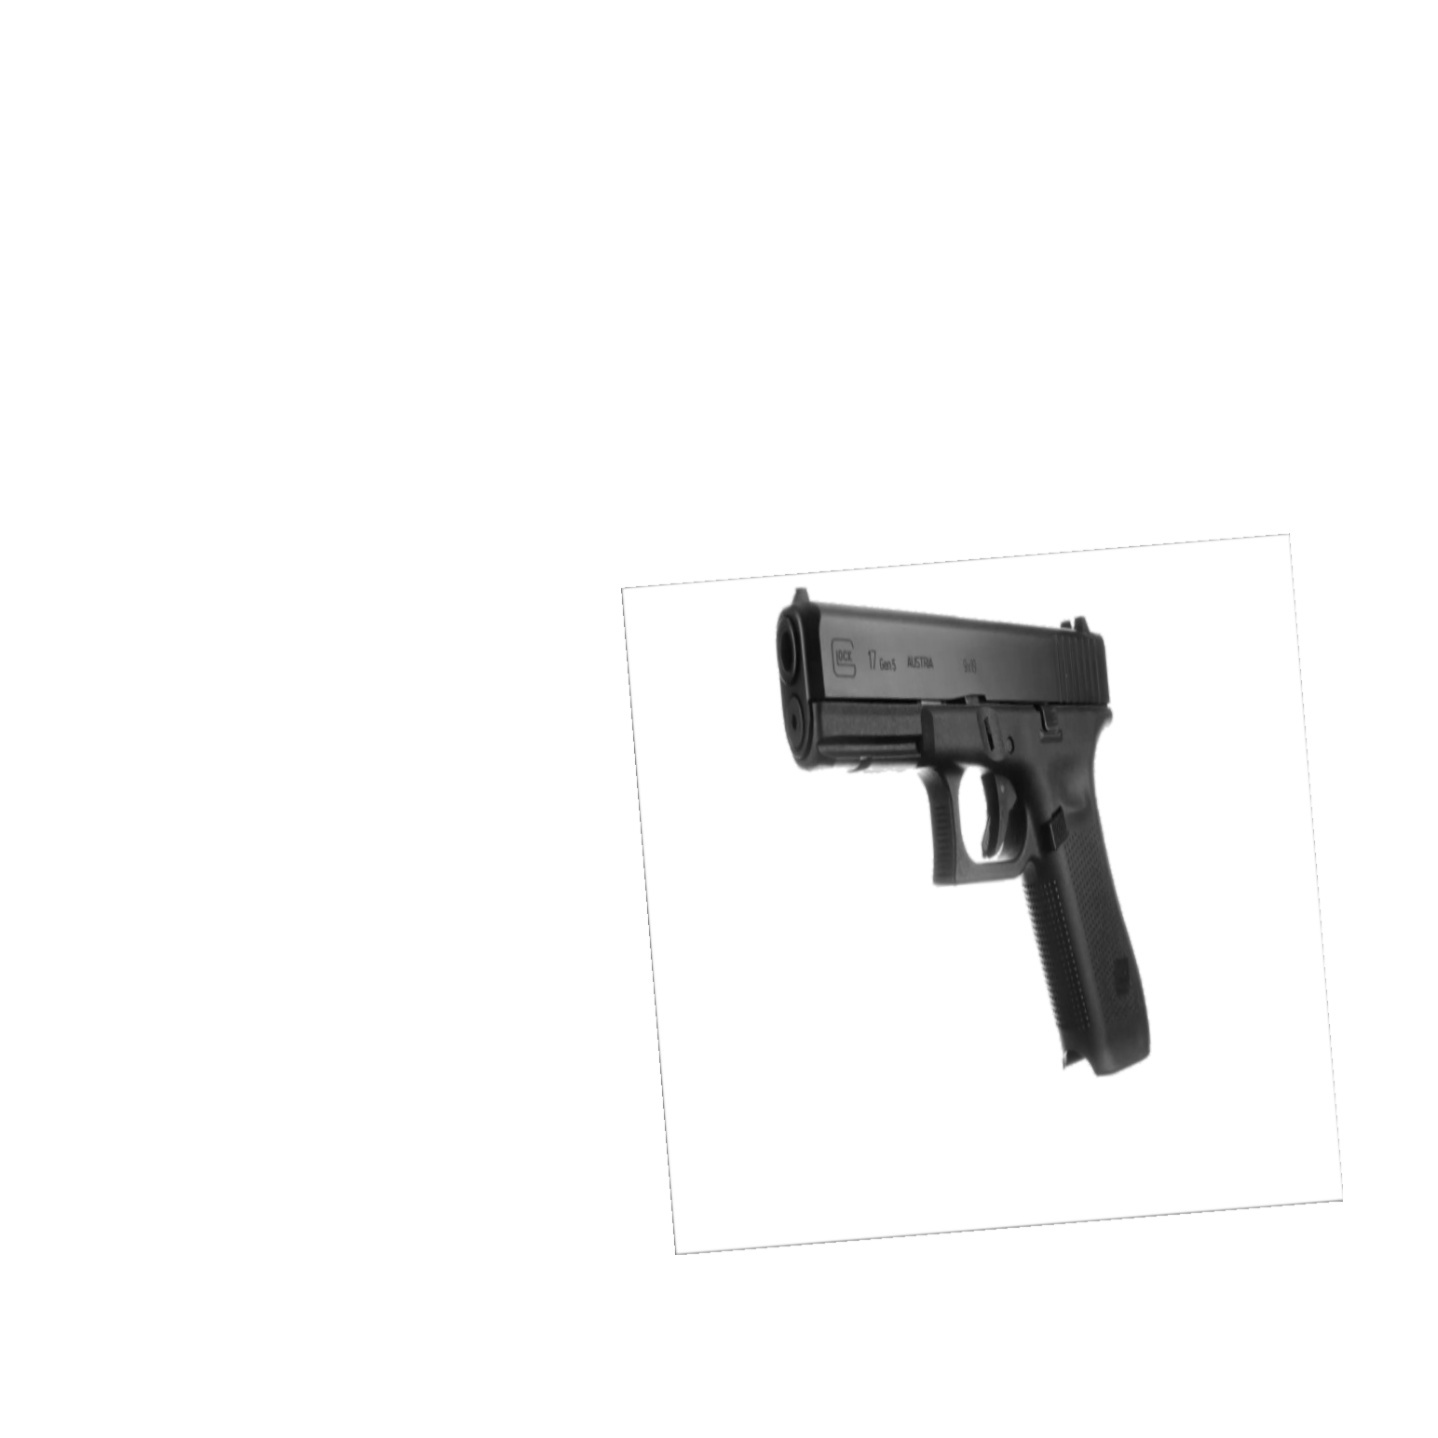gun: (760, 583, 1161, 1086)
